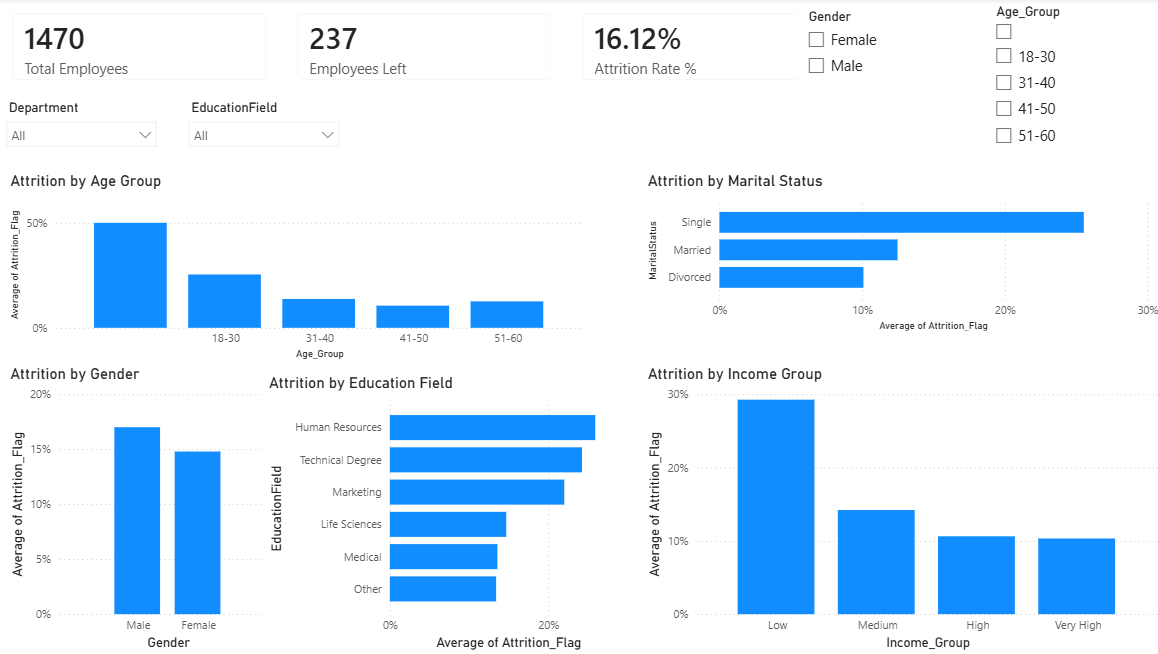

The dashboard page shown, as its layout file describes it:
{"tool":"powerbi","page":{"name":"Page 2: Workforce Demographic ","canvas":[1280,720],"ordinal":1},"visuals":[{"type":"cardVisual","fields":{"Data":["hr_cleaned.Total Employees"]},"box":[0,0,312.9,107],"z":0},{"type":"cardVisual","fields":{"Data":["hr_cleaned.Attrition Rate %"]},"box":[625.7,0,312.9,107],"z":1},{"type":"cardVisual","fields":{"Data":["hr_cleaned.Employees Left"]},"box":[312.9,0,312.9,107],"z":2},{"type":"slicer","fields":{"Values":["hr_cleaned.Department"]},"box":[0,107,185.2,64.5],"z":4},{"type":"slicer","fields":{"Values":["hr_cleaned.Gender"]},"box":[878.2,6.9,194.9,91.9],"z":5},{"type":"slicer","fields":{"Values":["hr_cleaned.EducationField"]},"box":[200.3,107,185.2,83.7],"z":6},{"type":"slicer","fields":{"Values":["hr_cleaned.Age_Group"]},"box":[1084.1,1.4,185.2,189.4],"z":7},{"type":"clusteredColumnChart","title":"Attrition by Age Group","fields":{"Category":["hr_cleaned.Age_Group"],"Y":["Avg(hr_cleaned.Attrition_Flag)"]},"box":[9.6,190.7,639.5,211.3],"z":8},{"type":"clusteredColumnChart","title":"Attrition by Gender","fields":{"Category":["hr_cleaned.Gender"],"Y":["Avg(hr_cleaned.Attrition_Flag)"]},"box":[9.6,402.1,303.3,318.4],"z":9},{"type":"clusteredBarChart","title":"Attrition by Marital Status","fields":{"Category":["hr_cleaned.MaritalStatus"],"Y":["Avg(hr_cleaned.Attrition_Flag)"]},"box":[709.4,190.7,570.8,179.8],"z":10},{"type":"clusteredBarChart","title":"Attrition by Education Field","fields":{"Category":["hr_cleaned.EducationField"],"Y":["Avg(hr_cleaned.Attrition_Flag)"]},"box":[293.7,411.7,415.8,308.7],"z":11},{"type":"clusteredColumnChart","title":"Attrition by Income Group","fields":{"Category":["hr_cleaned.Income_Group"],"Y":["Avg(hr_cleaned.Attrition_Flag)"]},"box":[709.4,402.1,570.8,318.4],"z":12}]}

Visuals, with their boxes in screenshot pixels (x1, y1, x2, y2), scaled from the page's 1280x720 canvas onto the 1158x654 screenshot:
cardVisual - hr_cleaned.Total Employees: [0, 0, 283, 97]
cardVisual - hr_cleaned.Attrition Rate %: [566, 0, 849, 97]
cardVisual - hr_cleaned.Employees Left: [283, 0, 566, 97]
slicer - hr_cleaned.Department: [0, 97, 168, 156]
slicer - hr_cleaned.Gender: [794, 6, 971, 90]
slicer - hr_cleaned.EducationField: [181, 97, 349, 173]
slicer - hr_cleaned.Age_Group: [981, 1, 1148, 173]
"Attrition by Age Group" clusteredColumnChart: [9, 173, 587, 365]
"Attrition by Gender" clusteredColumnChart: [9, 365, 283, 653]
"Attrition by Marital Status" clusteredBarChart: [642, 173, 1157, 337]
"Attrition by Education Field" clusteredBarChart: [266, 374, 642, 653]
"Attrition by Income Group" clusteredColumnChart: [642, 365, 1157, 653]
